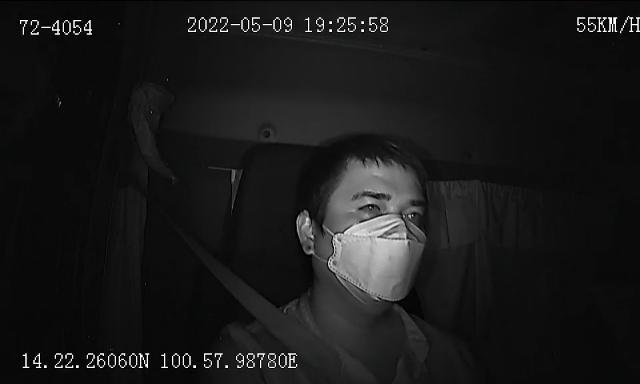SafeDriving: (352, 196, 387, 215), (399, 202, 427, 222)
Seatbelt: (178, 230, 346, 384)
